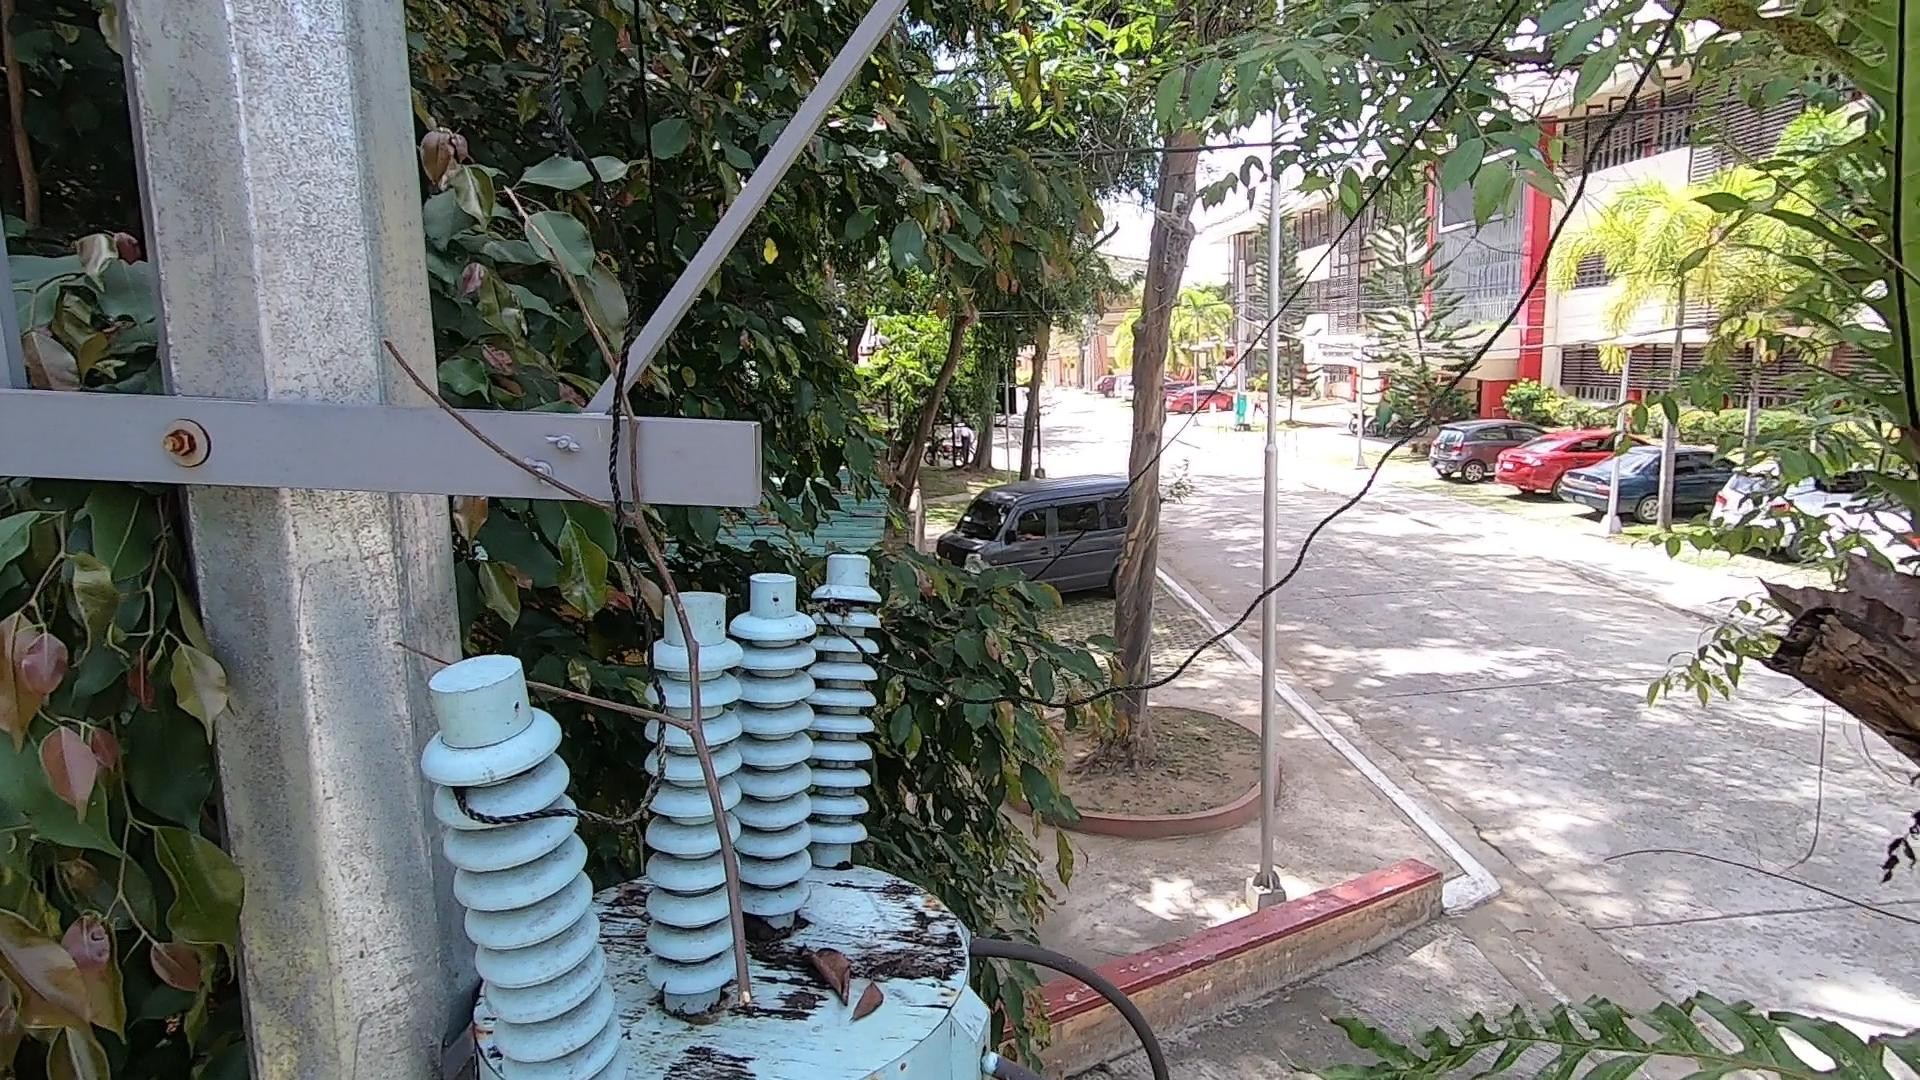leaf: (795, 930, 851, 1005), (723, 907, 786, 957), (836, 982, 895, 1033)
tree branch: (351, 193, 774, 1027)
